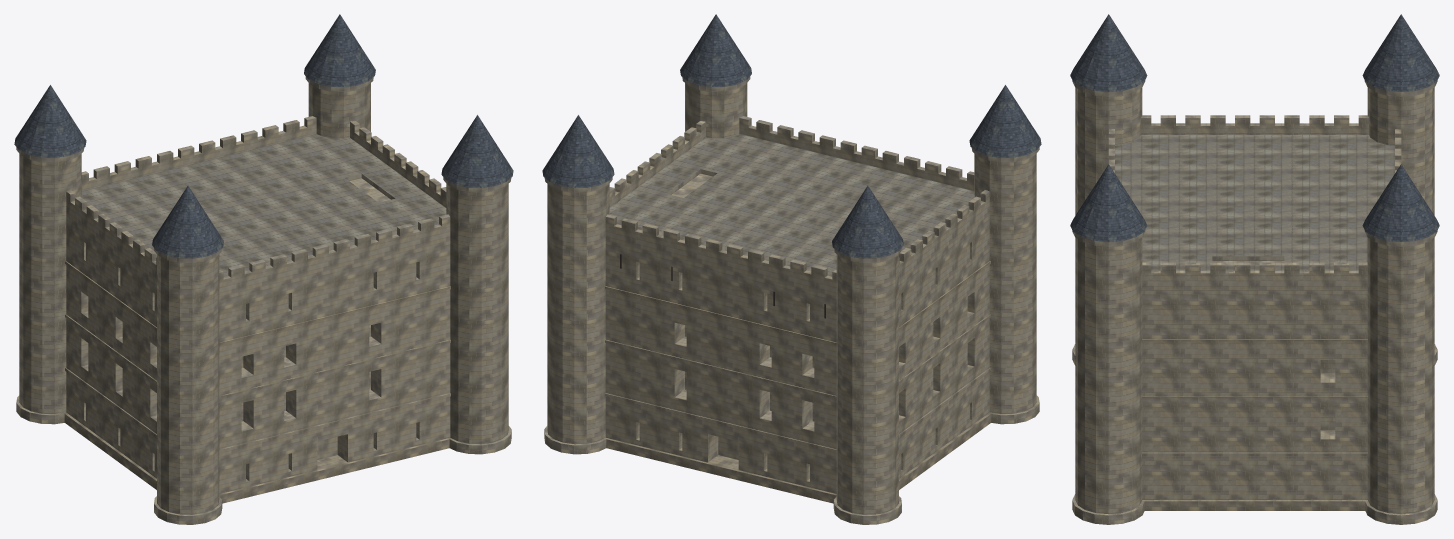
Rendered from fort-keep.zfix-v9.lod1.glb.
3 renders of one model, left to right at view 1: azimuth 30°, elevation 25°; view 2: azimuth 150°, elevation 25°; view 3: azimuth 270°, elevation 25°, orthographic. The views are drawn at different scales.
Visible parts, largest first — view 1: fort-keep; view 2: fort-keep; view 3: fort-keep.
Boxes of the visible parts, x1,y1,x2,y2 form: fort-keep: (14, 14, 513, 524); fort-keep: (542, 14, 1041, 524); fort-keep: (1070, 14, 1439, 524).
Size of the model in its own units: 41.4 by 36.5 by 35.4.
Materials: 4 (3 with a texture image).
